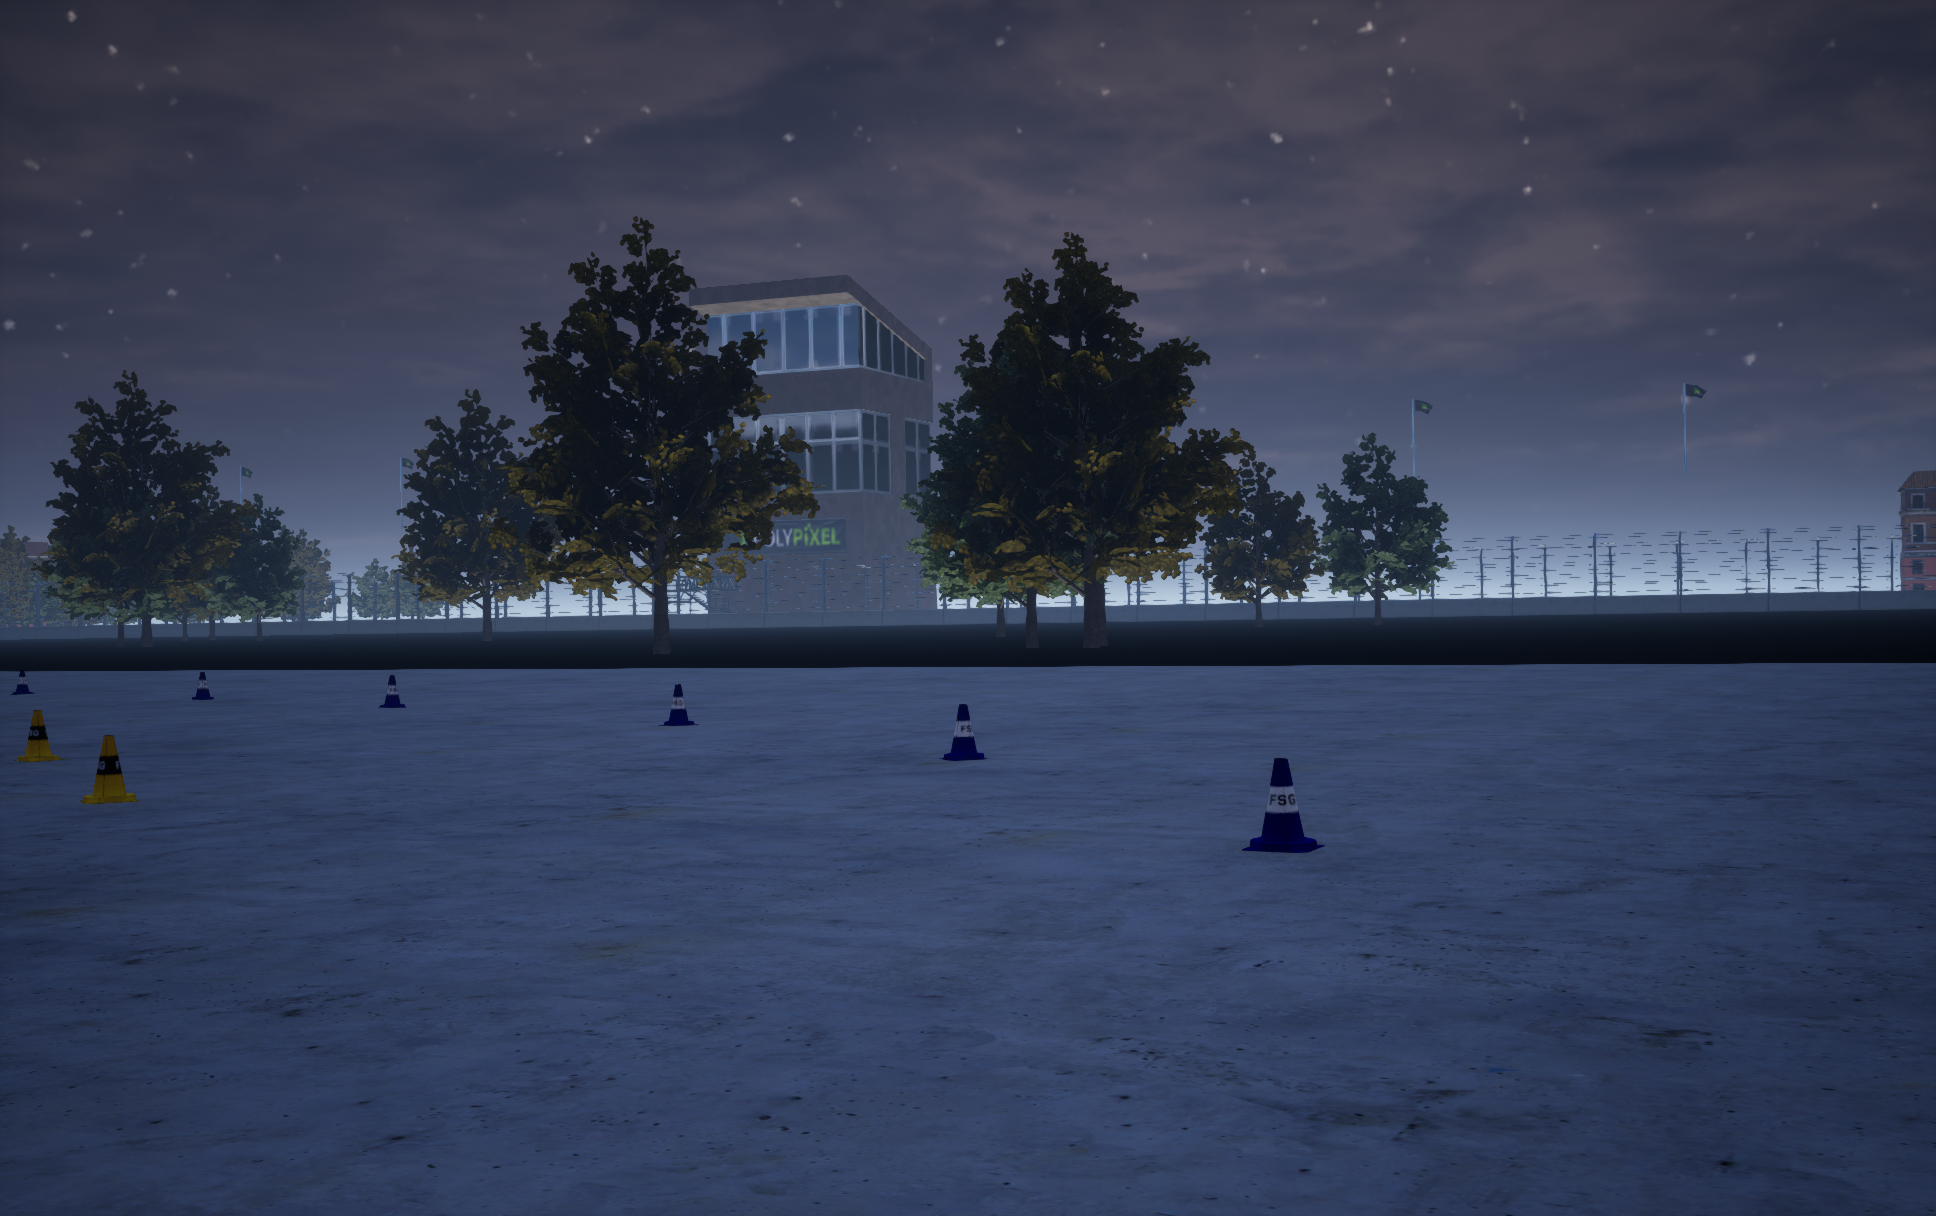blue: (80, 735, 139, 803), (13, 710, 64, 761)
yellow: (1243, 758, 1324, 852), (939, 705, 988, 759), (658, 684, 698, 726), (378, 675, 406, 707), (10, 670, 34, 693), (192, 672, 213, 699)
